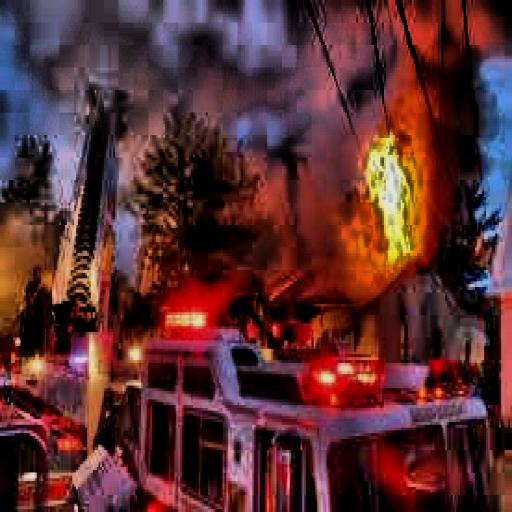fire: (352, 121, 440, 273)
